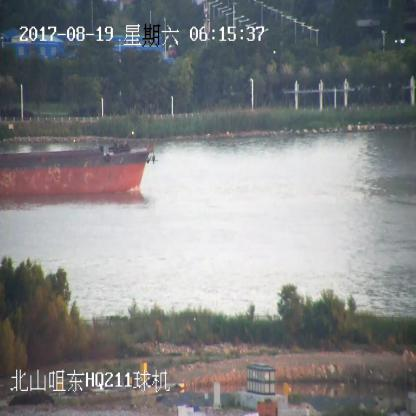Bulk Carrier: (0, 131, 156, 197)
